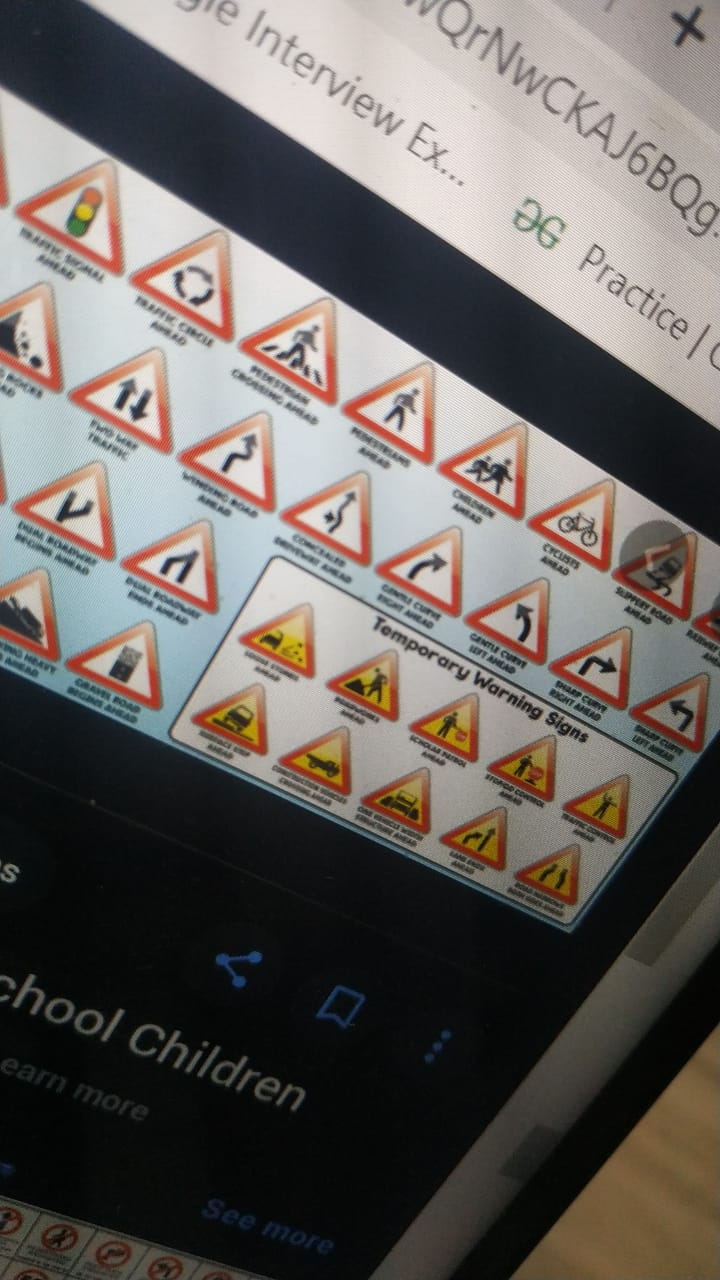LEFT CURVE: (468, 565, 548, 675)
PEDESTRIAN CROSSING: (235, 242, 340, 418)
RIGHT CURVE: (383, 502, 463, 626)
SCHOOL ZONE: (440, 383, 541, 530)
